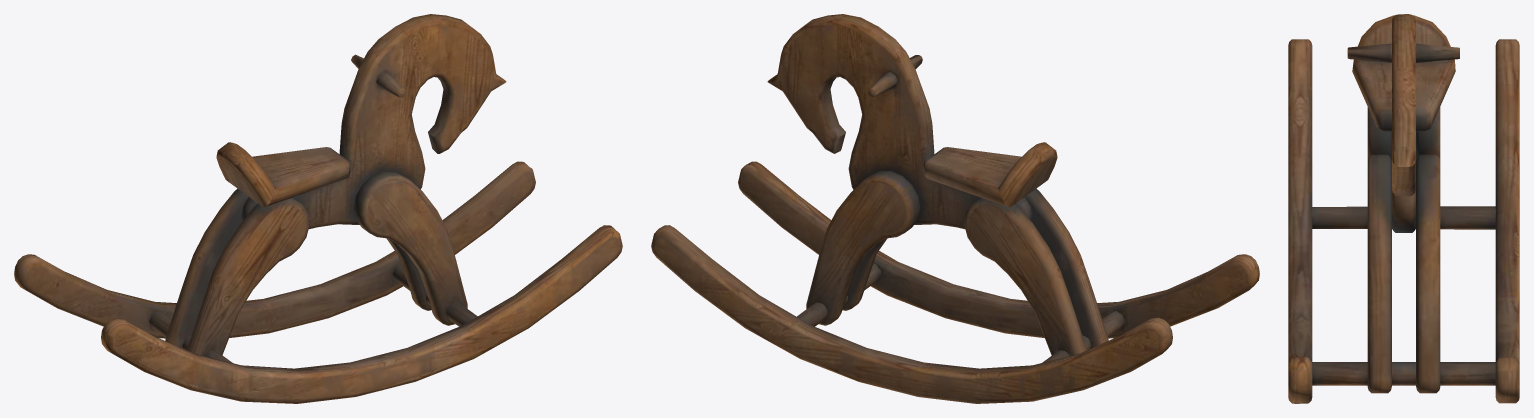
The model's file is rocking_horse.glb.
The picture shows the model from 3 angles, left to right: view 1: azimuth 30°, elevation 25°; view 2: azimuth 150°, elevation 25°; view 3: azimuth 270°, elevation 25°; orthographic projection. The views are drawn at different scales.
Visible parts, largest first — view 1: LP_Rocking_horse_0; view 2: LP_Rocking_horse_0; view 3: LP_Rocking_horse_0.
Boxes of the visible parts, x1,y1,x2,y2 form: LP_Rocking_horse_0: (14,14,622,403); LP_Rocking_horse_0: (651,14,1259,403); LP_Rocking_horse_0: (1288,14,1519,403).
Bounding box in the file's own units: 1.02 × 0.6 × 0.3336.
1 material, 1 textured.
